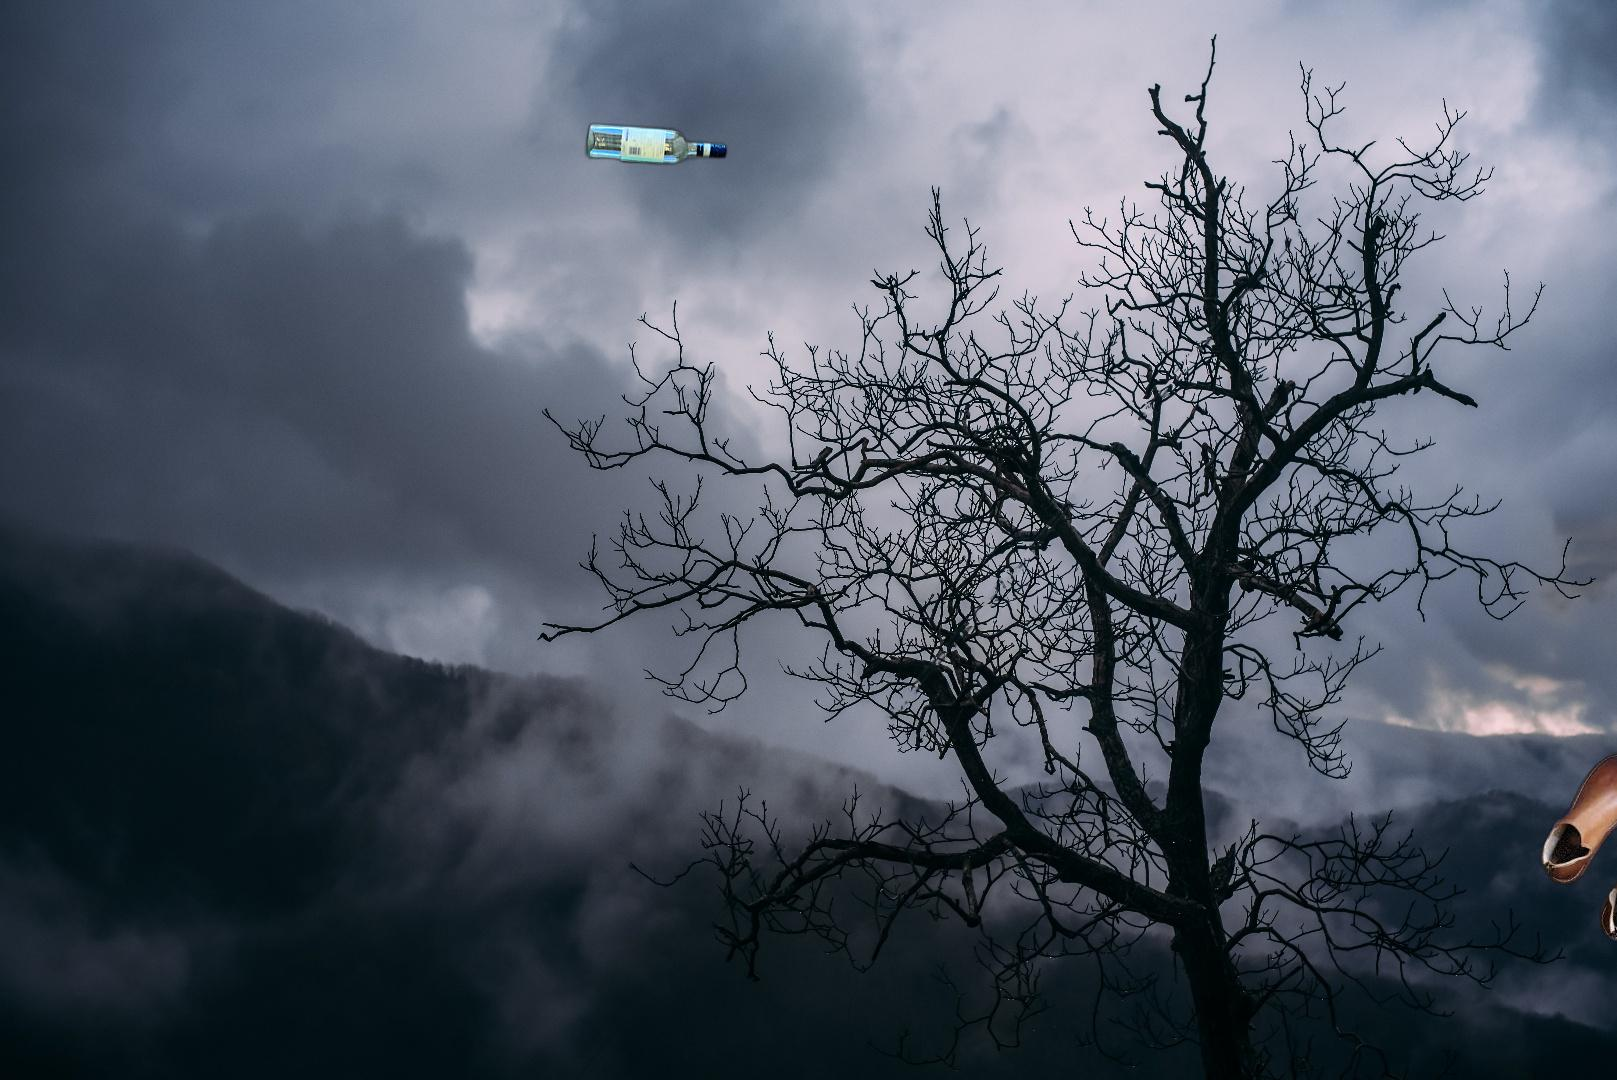glass: (580, 117, 731, 171)
shoes: (1537, 749, 1617, 945)
